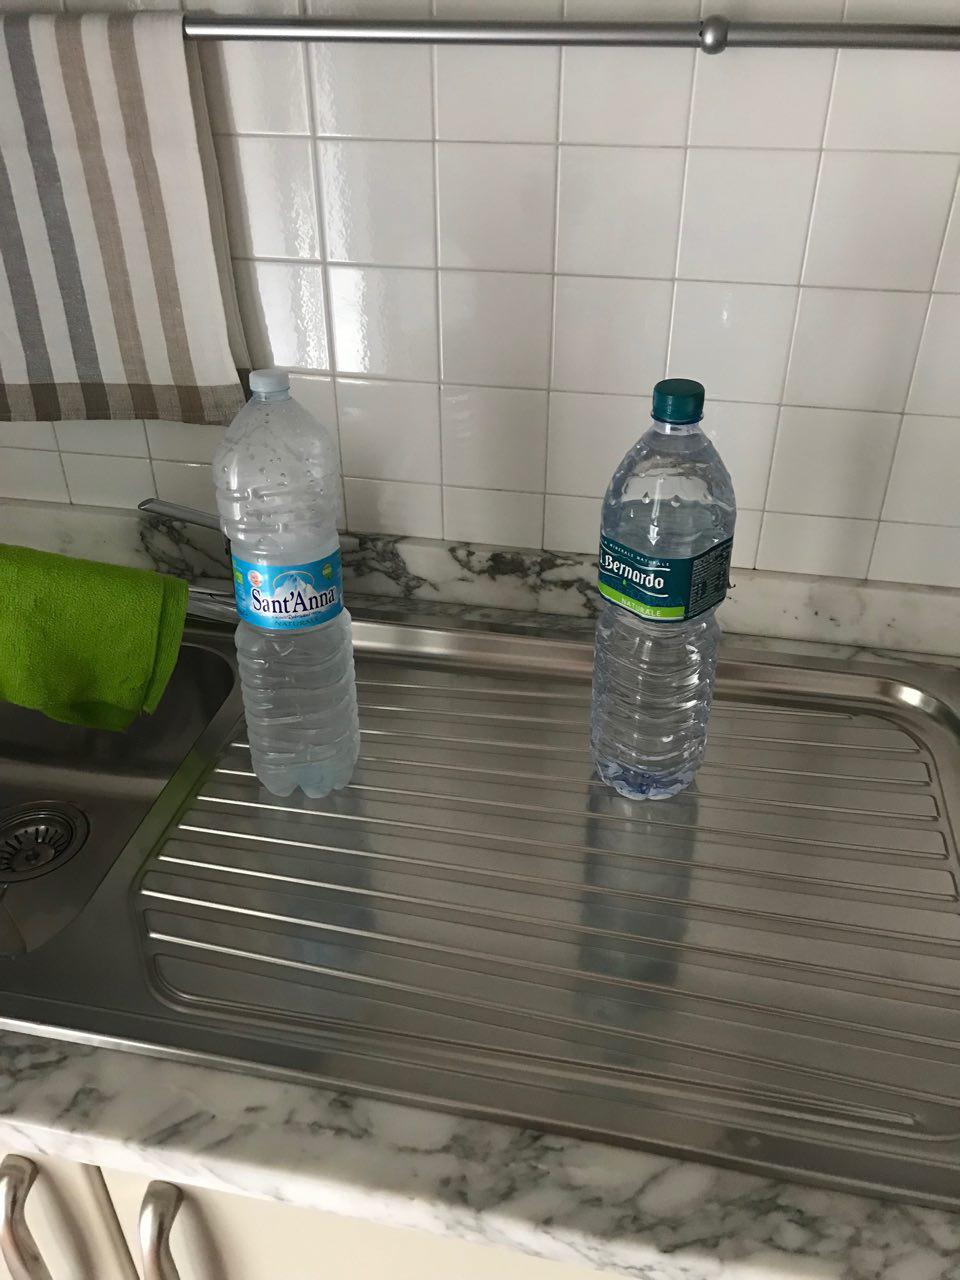san_bernardo: (589, 378, 737, 800)
